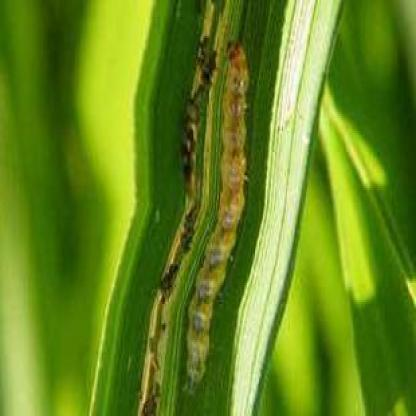leaf-folder: (186, 24, 252, 392)
